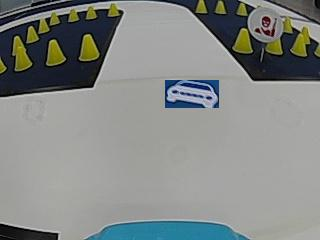evil: (247, 6, 281, 42)
